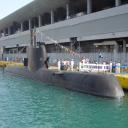submarine: (3, 27, 127, 100)
